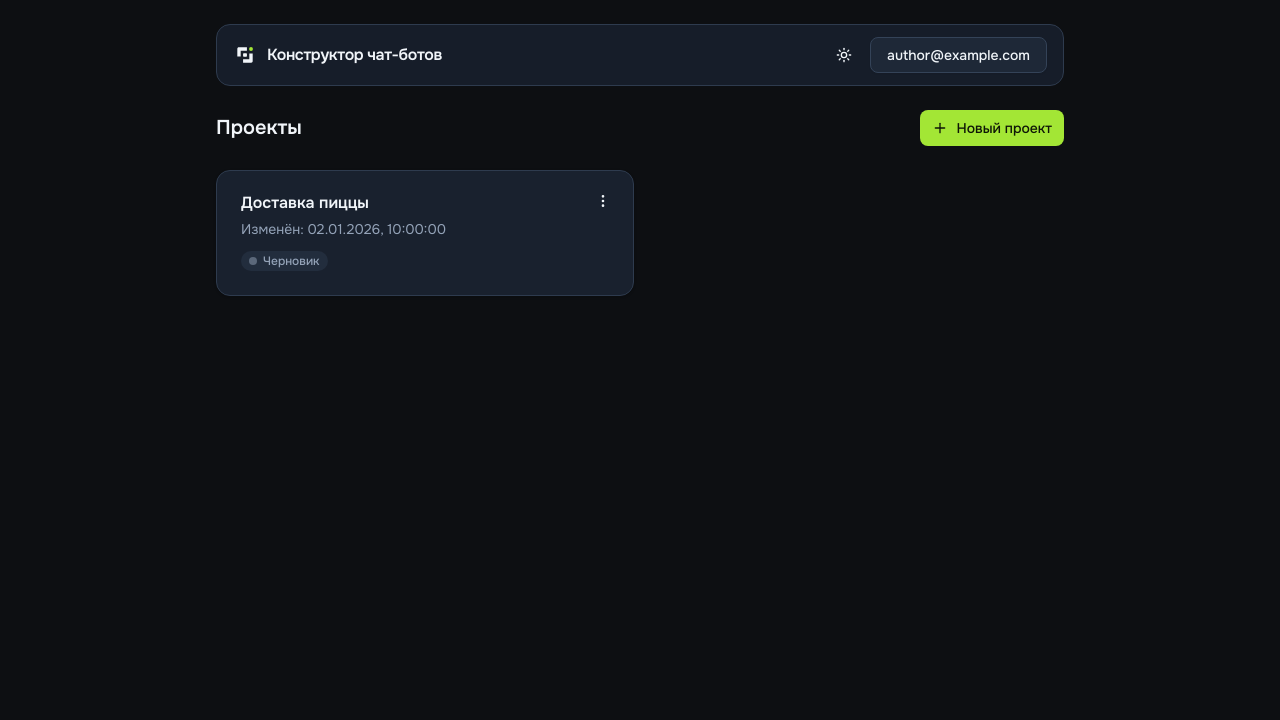
ProjectsPage › при удалении проекта с ботами предупреждает об их количестве и отправляет DELETE
The image size is (1280, 720).
Expected: the text "Доставка пиццы" is shown, [241,192,369,213]
Click the button named "Действия с проектом «Доставка пиццы»": (603, 201) [585,183,621,219]
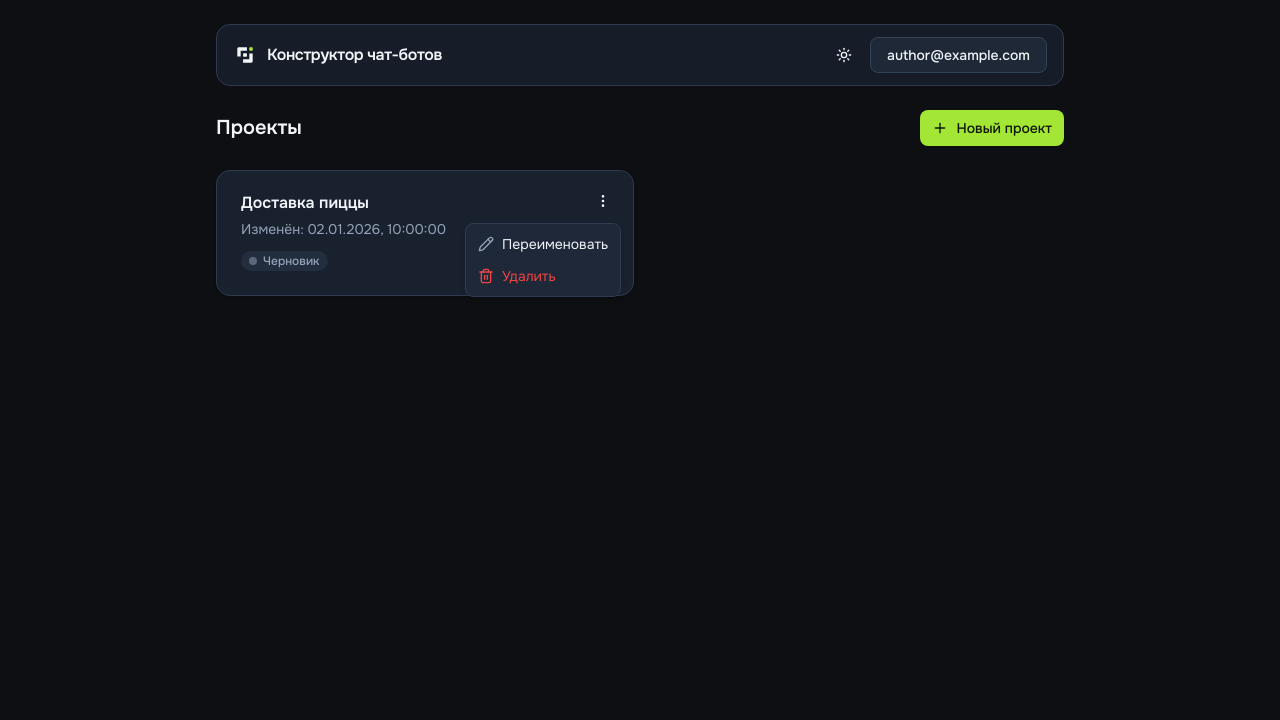
Click the menu item "Удалить": (517, 276) [478,267,556,285]
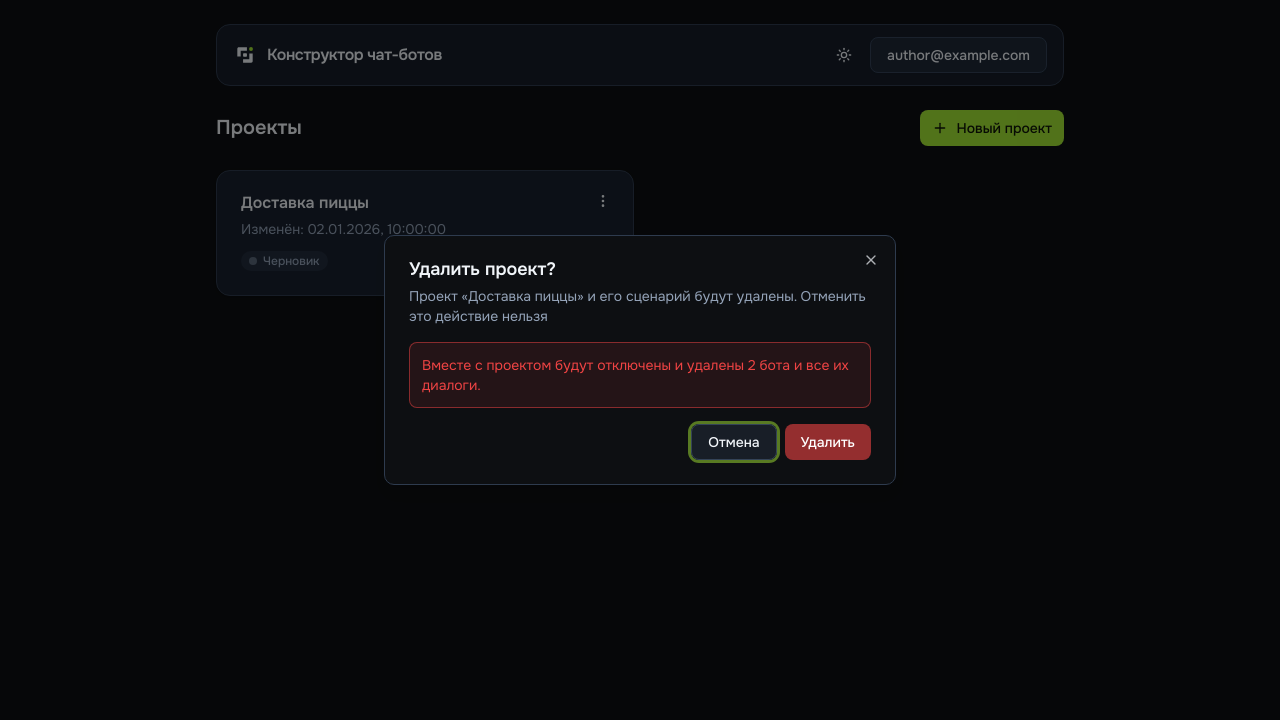
Click the button "Удалить": (828, 442) [785,424,871,460]
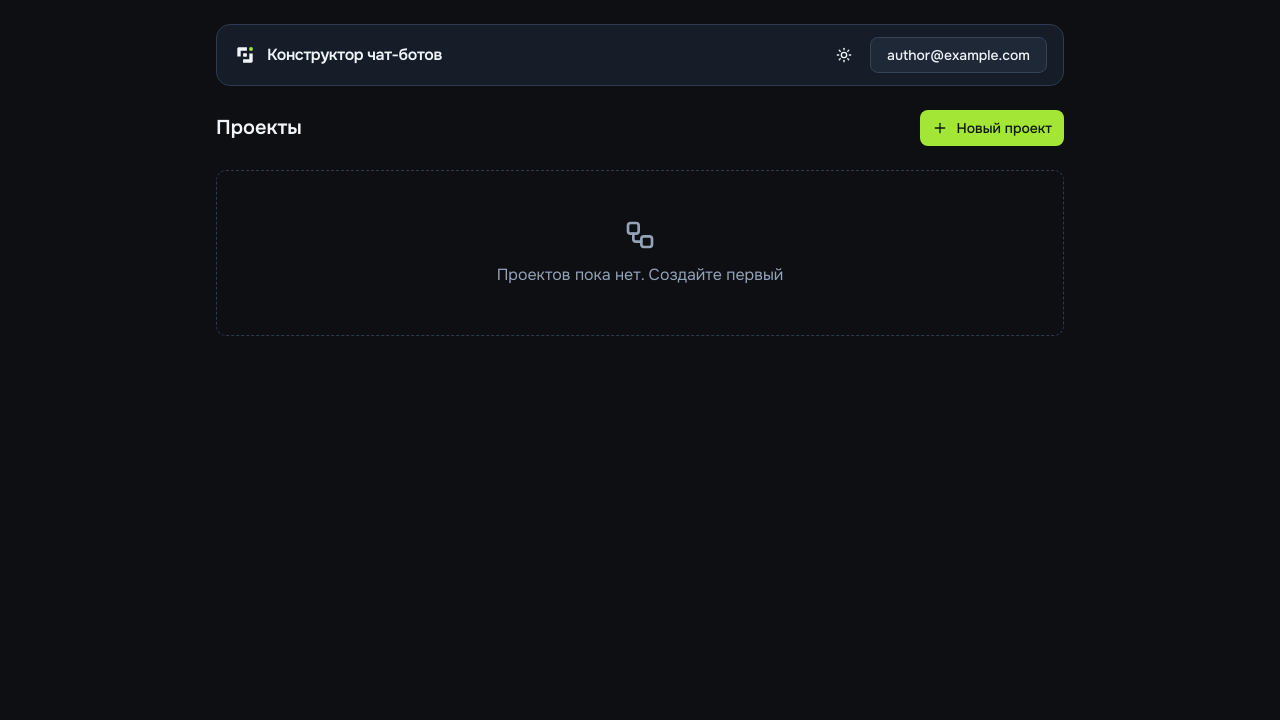
Expected: the text "Проектов пока нет. Создайте первый" is shown, [497,263,783,287]
